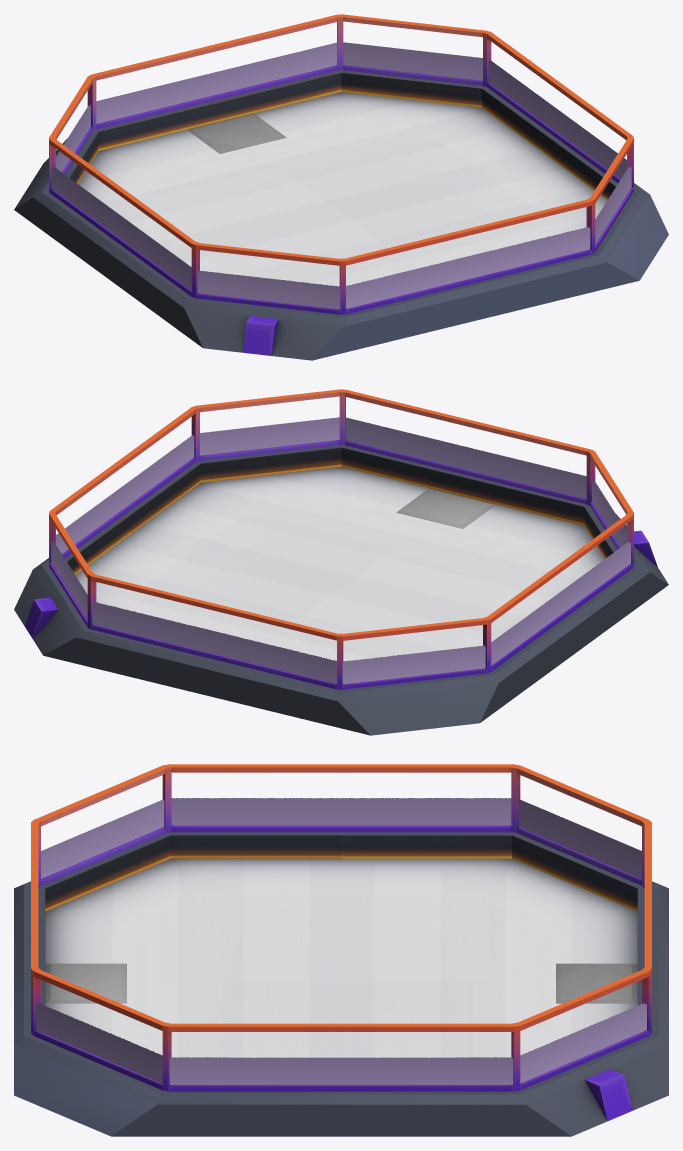
File: stage_2.fbx
The picture shows the model from 3 angles, top to bottom: view 1: azimuth 30°, elevation 25°; view 2: azimuth 150°, elevation 25°; view 3: azimuth 270°, elevation 25°; orthographic projection. The views are drawn at different scales.
Visible parts, largest first — view 1: stage_2, Cube.013, Cube.014, Cube.015, Cube.012, Cube.007, Cube.008, Cube.011, Cube.010; view 2: stage_2, Cube.014, Cube.013, Cube.015, Cube.010, Cube.007, Cube.011, Cube.008, Cube.012; view 3: stage_2, Cube.007, Cube.015, Cube.008, Cube.011, Cube.010, Cube.012, Cube.013, Cube.014.
Part boxes in pixels (x1,y1,x2,y2): stage_2: (14, 70, 668, 360); Cube.013: (342, 198, 593, 314); Cube.014: (90, 14, 340, 129); Cube.015: (49, 138, 197, 297); Cube.012: (193, 242, 343, 314); Cube.007: (485, 31, 633, 182); Cube.008: (339, 14, 488, 86); Cube.011: (589, 137, 633, 252); Cube.010: (49, 75, 94, 190); stage_2: (14, 445, 668, 735); Cube.014: (89, 573, 340, 689); Cube.013: (342, 389, 592, 504); Cube.015: (485, 513, 633, 672); Cube.010: (339, 617, 489, 689); Cube.007: (49, 406, 197, 557); Cube.011: (194, 389, 343, 461); Cube.008: (49, 512, 93, 627); Cube.012: (588, 450, 633, 565); stage_2: (14, 832, 668, 1136); Cube.007: (165, 1023, 517, 1091); Cube.015: (166, 764, 516, 832); Cube.008: (514, 968, 650, 1090); Cube.011: (32, 968, 168, 1090); Cube.010: (514, 765, 650, 886); Cube.012: (32, 765, 168, 886); Cube.013: (31, 821, 39, 1033); Cube.014: (643, 821, 651, 1033).
Bounding box in the file's own units: 2747 × 475 × 2747.
